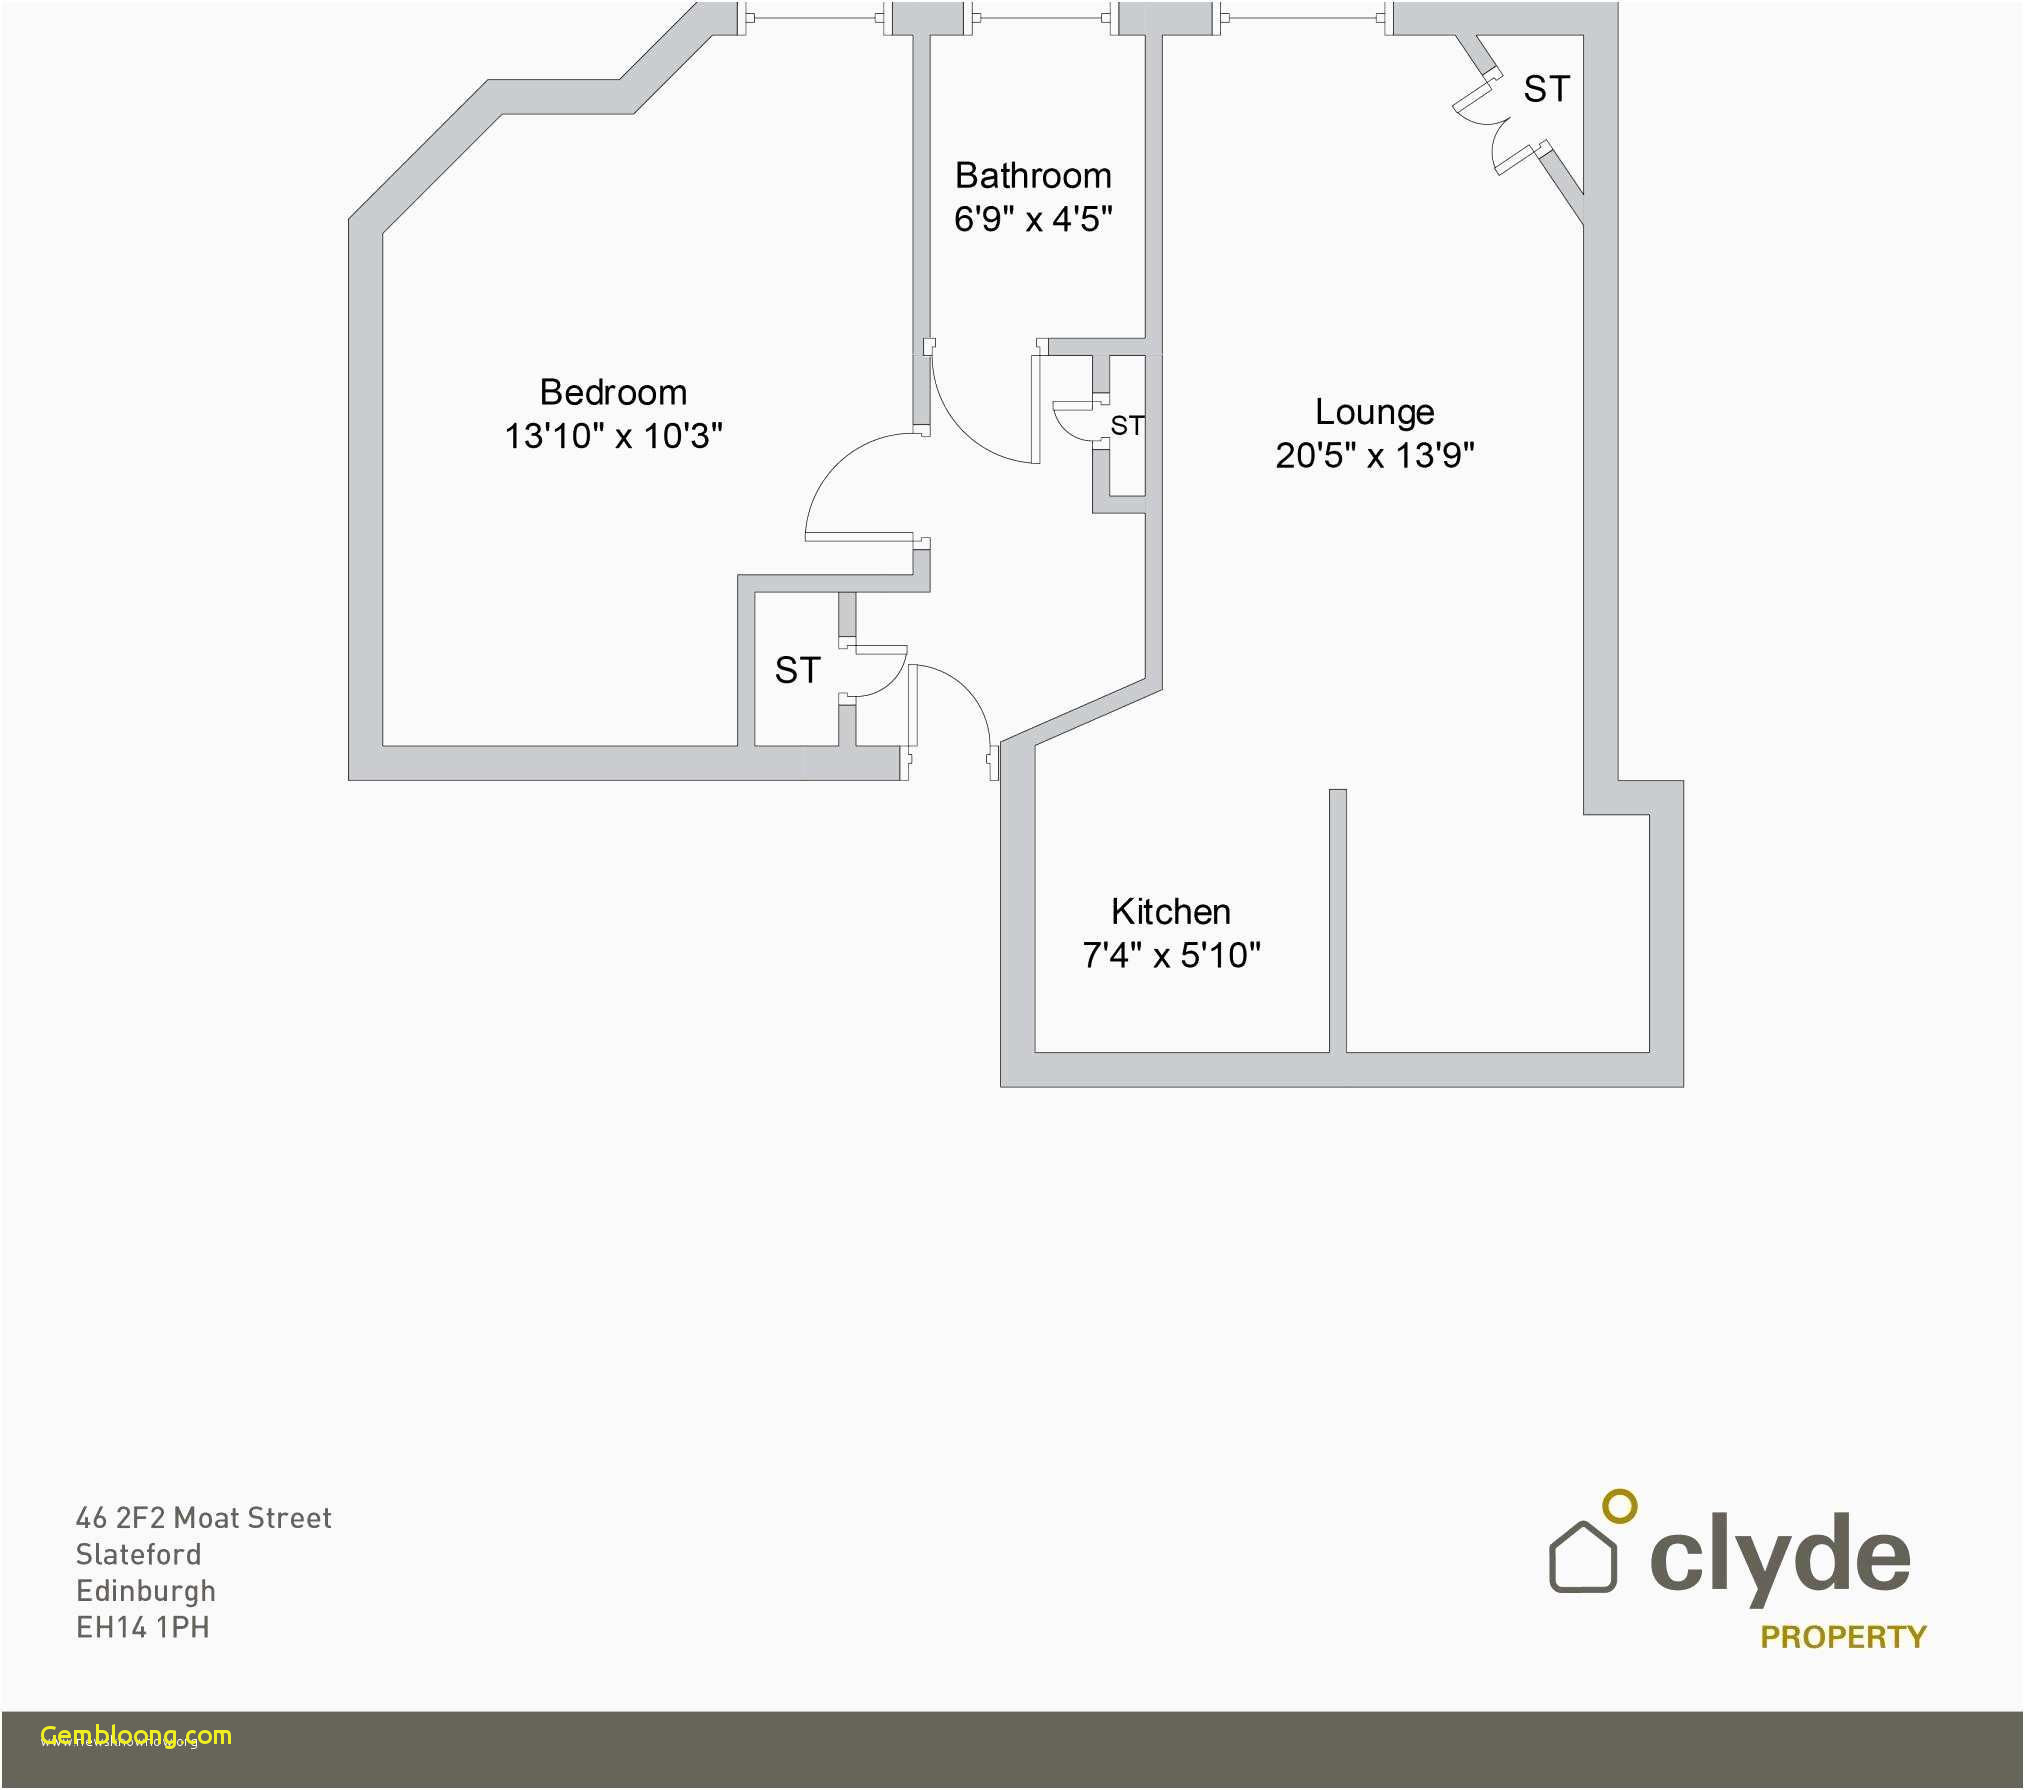wall: (1583, 17, 1629, 817), (340, 225, 385, 779), (1007, 1051, 1704, 1080), (397, 752, 781, 786), (1000, 745, 1038, 1064), (1137, 14, 1154, 682), (1655, 822, 1686, 1085), (909, 31, 930, 422), (781, 570, 936, 601), (1327, 791, 1341, 1051), (741, 570, 759, 748), (1044, 335, 1144, 358), (1089, 442, 1113, 518), (1094, 486, 1146, 513)
